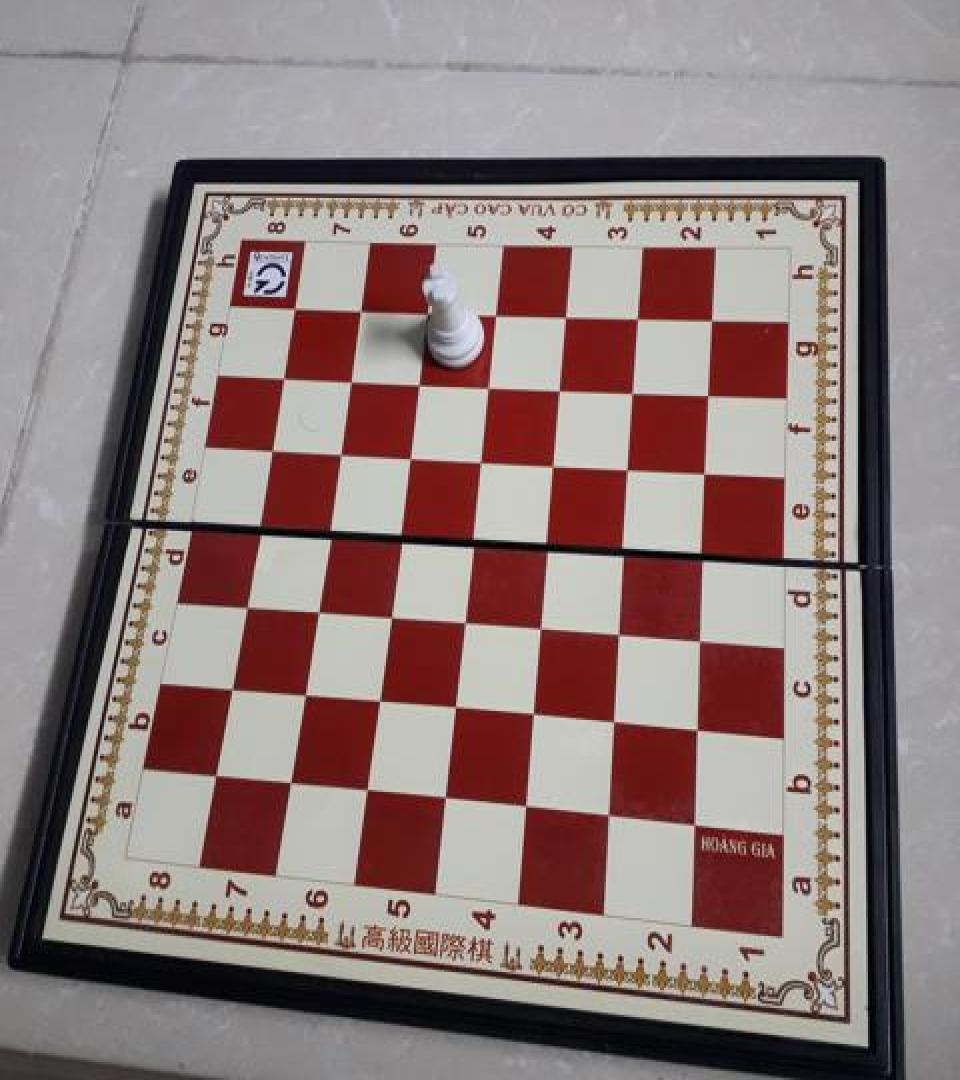xcorner: (201, 758, 229, 790), (276, 766, 304, 798), (596, 796, 624, 828), (681, 804, 709, 836), (290, 677, 318, 709), (521, 696, 549, 728), (602, 703, 630, 735), (230, 588, 258, 620), (376, 598, 404, 630), (451, 603, 479, 635), (607, 614, 635, 646), (244, 508, 272, 540), (315, 513, 343, 545), (387, 516, 415, 548), (535, 525, 563, 557), (691, 534, 719, 566), (257, 433, 285, 465), (326, 436, 354, 468), (469, 442, 497, 474), (542, 445, 570, 477), (694, 452, 722, 484), (270, 361, 298, 393), (337, 363, 365, 395), (549, 370, 577, 402), (622, 372, 650, 404), (282, 292, 310, 324), (555, 298, 583, 330), (627, 299, 655, 331), (700, 301, 728, 333), (353, 773, 381, 804), (432, 781, 460, 812), (513, 789, 541, 820), (216, 672, 244, 703), (365, 683, 393, 714), (442, 690, 470, 721), (685, 710, 713, 741), (302, 593, 330, 624), (528, 609, 556, 640), (688, 620, 716, 651), (460, 521, 488, 552), (612, 530, 640, 561), (397, 440, 425, 471), (617, 449, 645, 480), (406, 366, 434, 397), (477, 368, 505, 399), (697, 375, 725, 406), (348, 294, 376, 325), (415, 295, 443, 326), (484, 296, 512, 327)
